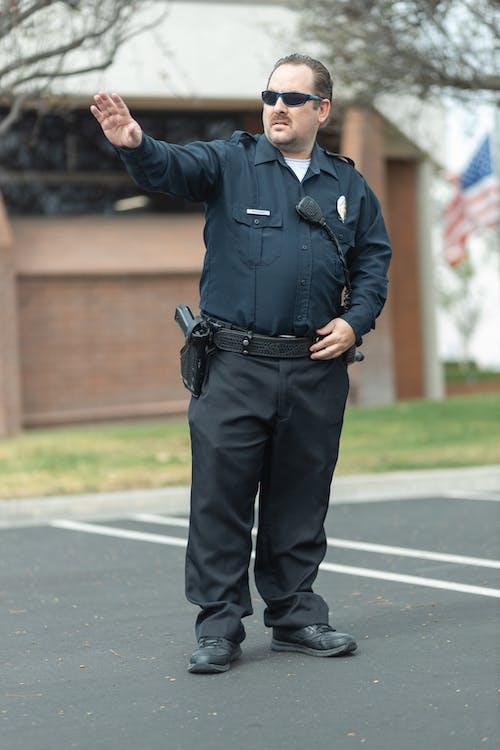gun: (173, 301, 214, 400)
